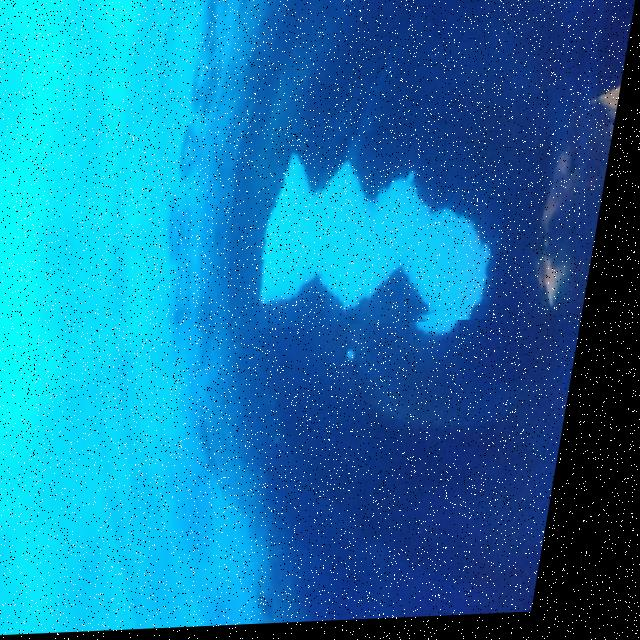litter: (234, 116, 528, 333)
